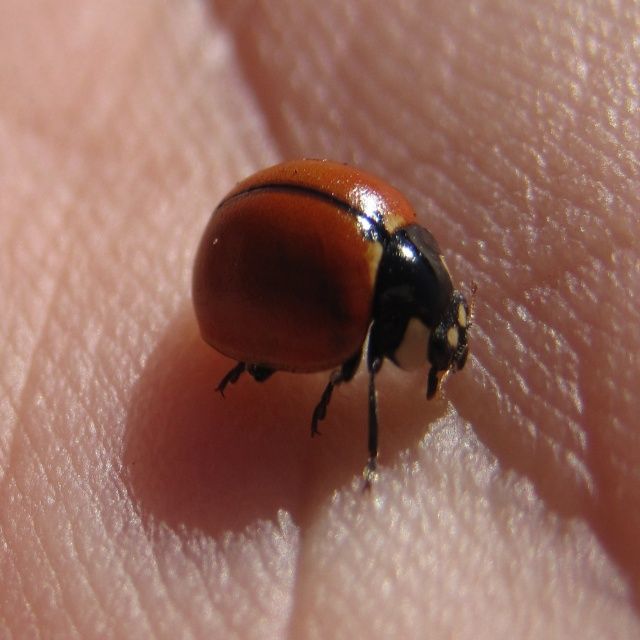Ladybug: (191, 158, 478, 498)
